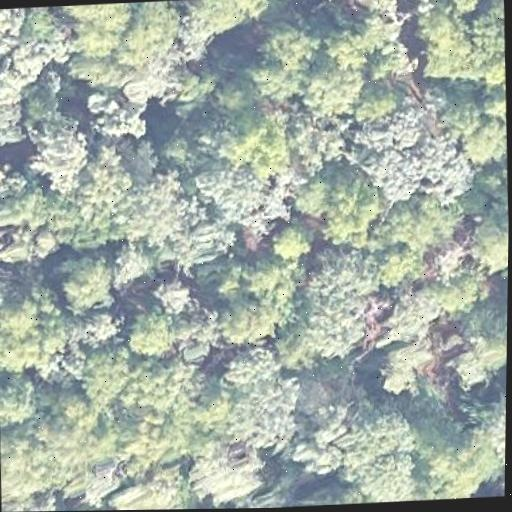tree-top: (281, 252, 377, 365), (355, 98, 454, 197), (206, 254, 301, 348), (121, 168, 213, 264), (335, 405, 421, 504), (218, 360, 307, 455), (408, 0, 499, 88), (14, 185, 114, 254), (32, 397, 107, 486), (210, 104, 297, 179), (249, 17, 325, 98), (186, 438, 270, 509), (312, 170, 385, 245), (106, 400, 183, 470), (377, 190, 464, 251), (422, 419, 492, 494), (32, 119, 99, 189), (295, 55, 367, 119), (53, 248, 119, 316), (71, 342, 136, 411), (8, 5, 73, 71), (448, 318, 507, 390), (371, 342, 439, 402), (378, 283, 445, 343), (423, 260, 488, 321), (450, 104, 507, 170), (111, 464, 189, 510), (0, 428, 48, 502), (122, 300, 181, 360), (84, 94, 151, 146), (179, 0, 266, 37), (464, 202, 509, 271), (0, 283, 51, 342), (342, 0, 409, 41), (104, 239, 155, 291), (60, 2, 139, 35), (0, 67, 38, 135), (86, 137, 130, 195), (0, 370, 41, 430), (288, 174, 335, 222), (147, 270, 198, 314), (479, 386, 506, 466), (267, 221, 318, 263), (275, 488, 369, 507), (0, 494, 66, 512), (0, 8, 28, 38), (0, 143, 9, 222), (434, 0, 484, 13), (0, 269, 8, 342)
